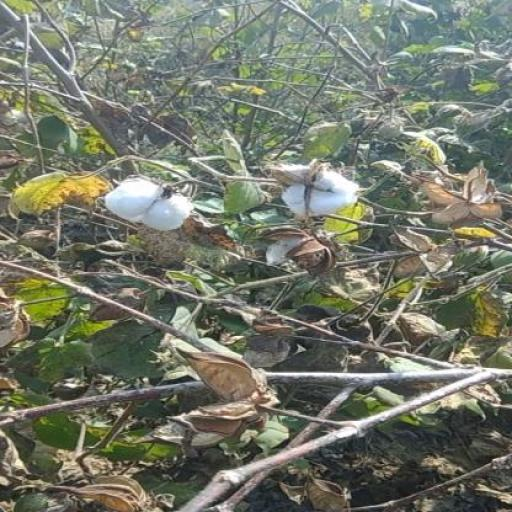cotton_ready: (241, 149, 392, 236), (84, 162, 205, 242)
